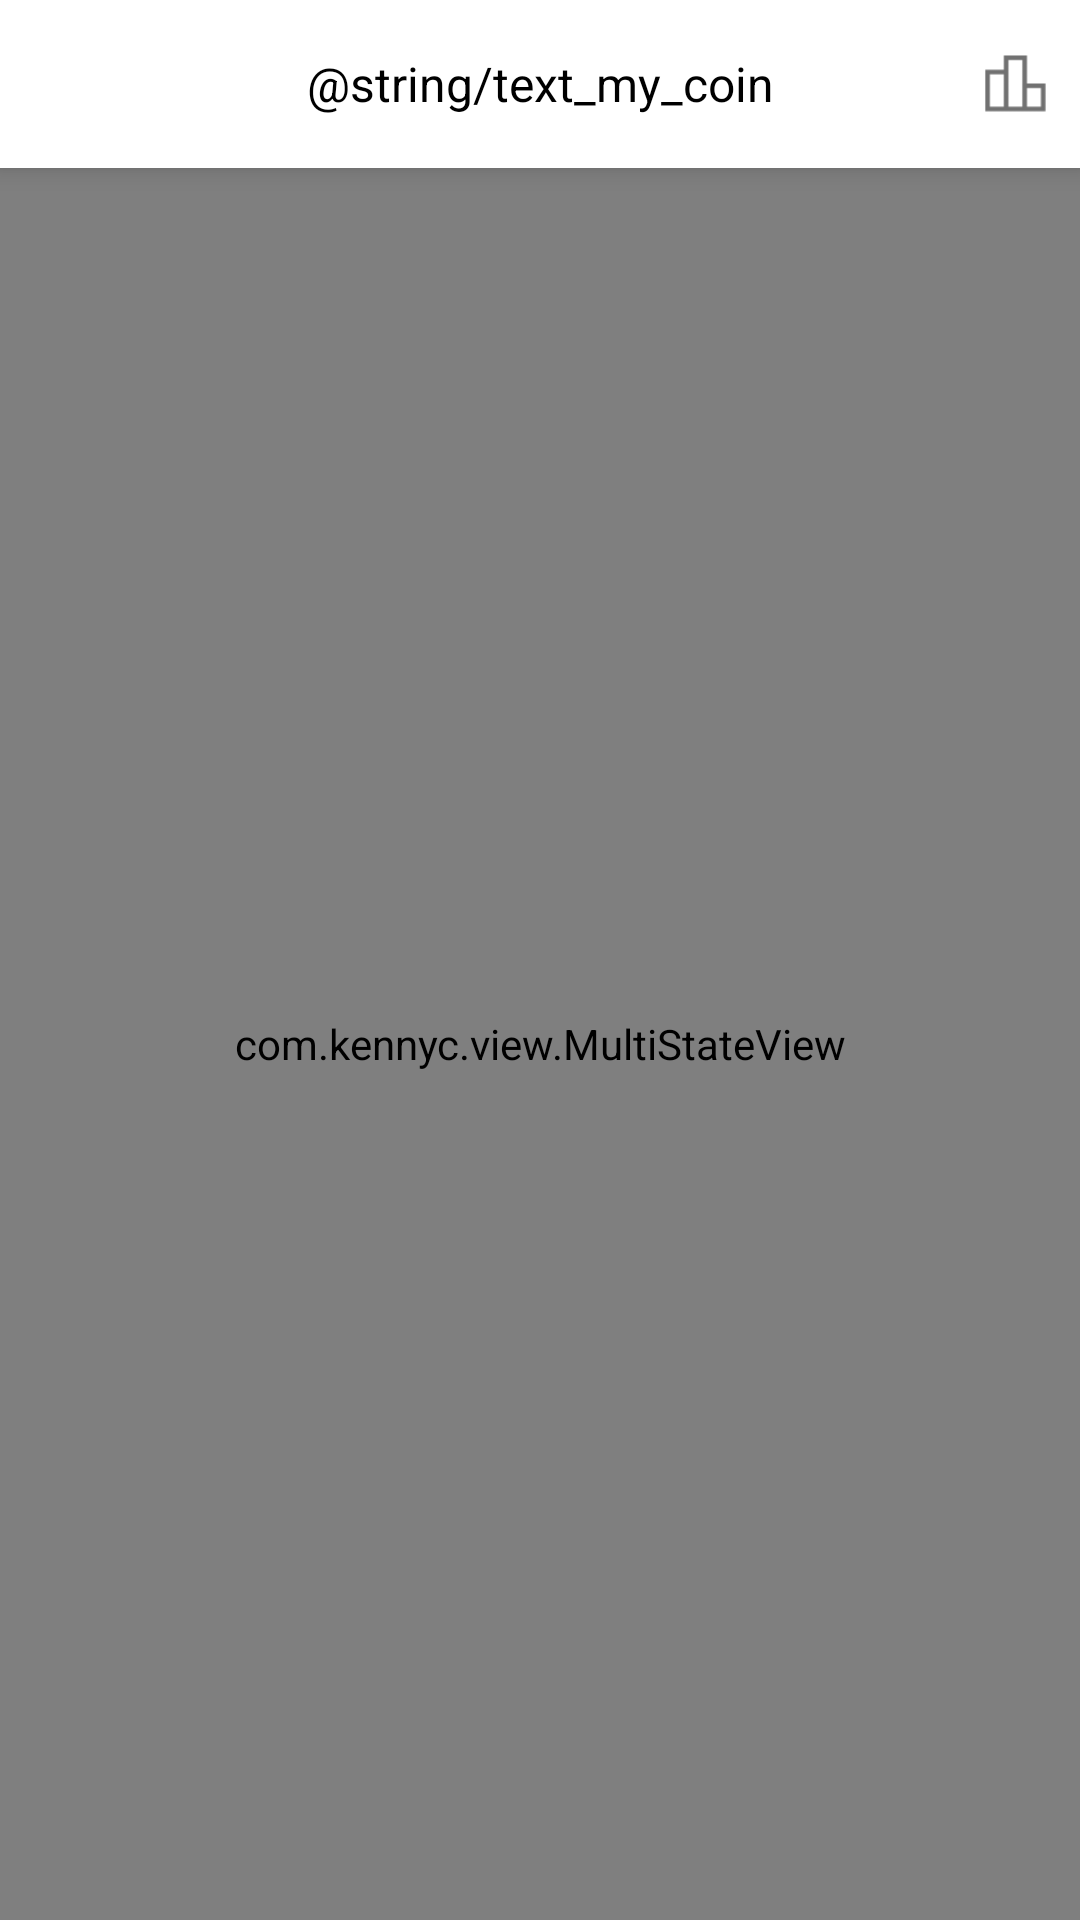

Screen size 1080x1920. Icon name, then its box in pixels as (x1, y1, x2, y2):
rank: (985, 55, 1046, 112)
